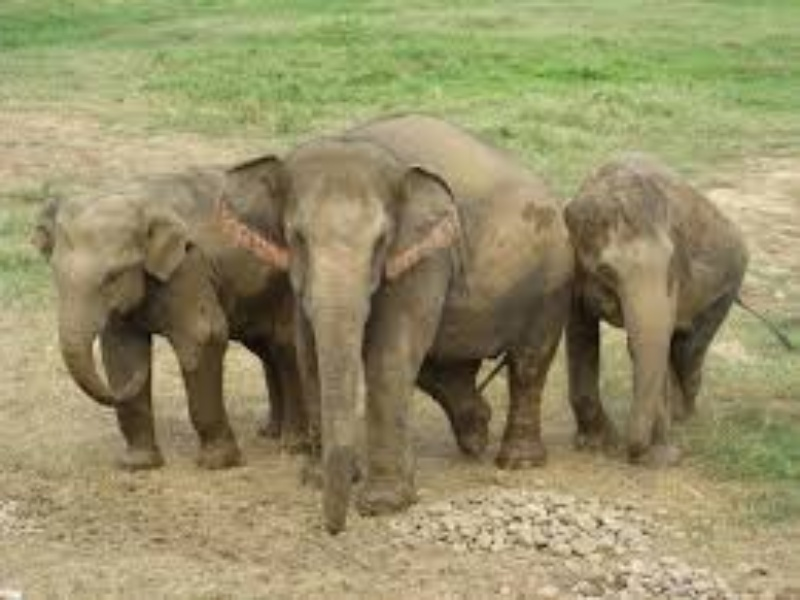elephant: (269, 70, 573, 536), (24, 171, 276, 479), (548, 150, 800, 458)
